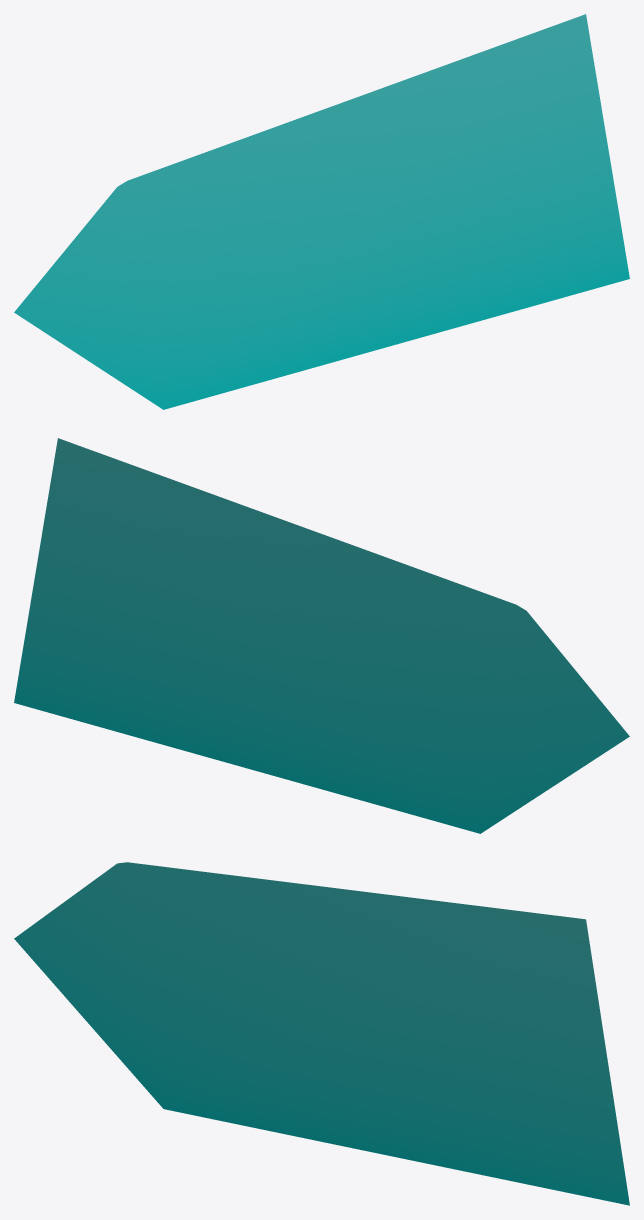
The model's file is Sea_Thrift_vkbgaihha_Mid_vkbgaihha_VarE_LOD3.fbx.
3 renders of one model, top to bottom at view 1: azimuth 30°, elevation 25°; view 2: azimuth 150°, elevation 25°; view 3: azimuth 330°, elevation 25°, orthographic.
Parts seen in each view (by area): view 1: _jwhe_VarE_LOD4; view 2: _jwhe_VarE_LOD4; view 3: _jwhe_VarE_LOD4.
Boxes of the visible parts, x1,y1,x2,y2 form: _jwhe_VarE_LOD4: (14,14,629,409); _jwhe_VarE_LOD4: (14,438,629,833); _jwhe_VarE_LOD4: (14,862,629,1205).
Bounding box in the file's own units: 31.27 × 14.21 × 0.
